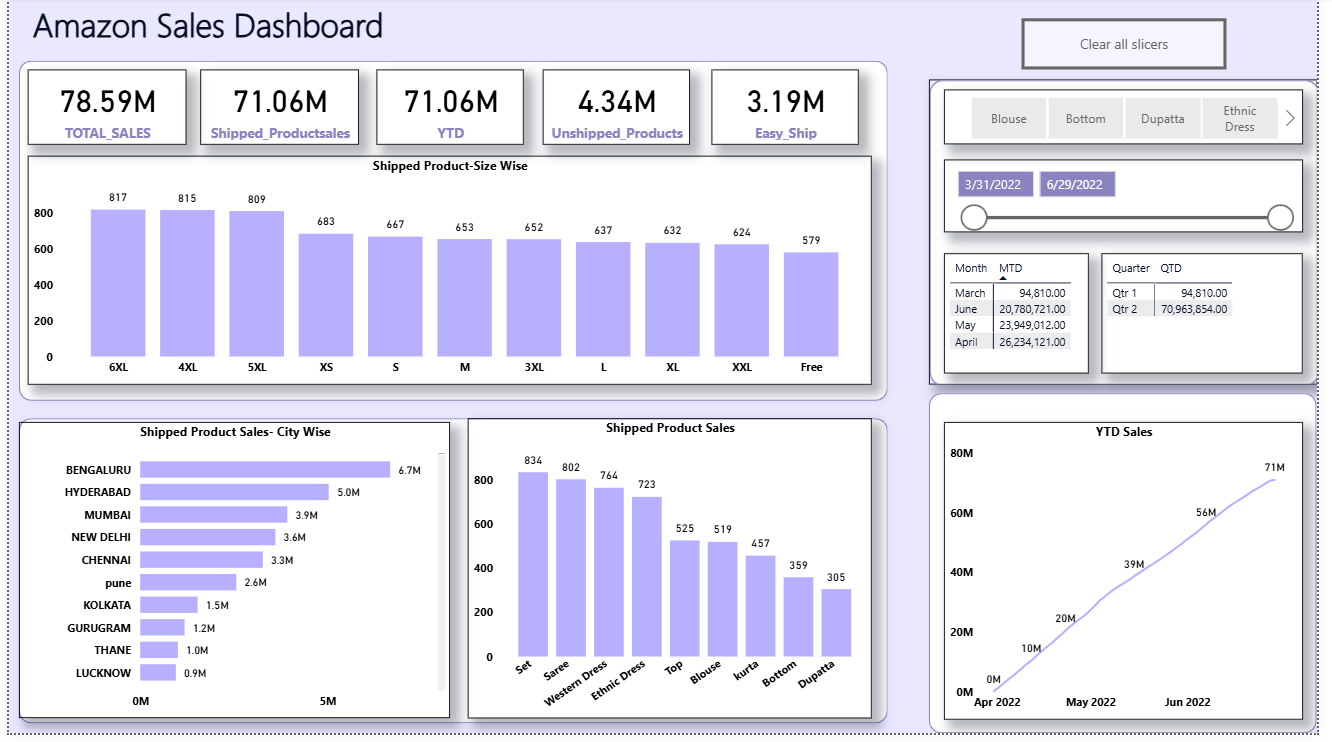

The page's visual inventory and layout, read from the dashboard file:
{"tool":"powerbi","page":{"name":"Page 1","canvas":[1280,720],"ordinal":0},"visuals":[{"type":"shape","box":[9.8,62.4,849.9,332.6],"z":0},{"type":"shape","box":[9.8,412.1,849.9,298.4],"z":1000},{"type":"shape","box":[900,80.7,380.3,298.4],"z":2000},{"type":"shape","box":[900,387.6,379.1,332.6],"z":3000},{"type":"textbox","box":[18.3,0,492.8,62.4],"z":4000},{"type":"clusteredColumnChart","title":"Shipped Product Sales","fields":{"Y":["Dax functions.Shipped_Productaveragesales"],"Category":["Amazon Sale Report.Category"]},"box":[448.8,412.1,395,293.5],"z":5000},{"type":"clusteredBarChart","title":"Shipped Product Sales- City Wise","fields":{"Category":["Amazon Sale Report.ship-city"],"Y":["Dax functions.Shipped_Productsales"]},"box":[9.8,415.8,421.9,289.8],"z":6000},{"type":"columnChart","title":"Shipped Product-Size Wise","fields":{"Y":["Dax functions.Shipped_Productaveragesales"],"Category":["Amazon Sale Report.Size"]},"box":[18.3,155.3,825.4,223.8],"z":7000},{"type":"card","fields":{"Values":["Dax functions.TOTAL_SALES"]},"box":[18.3,70.9,155.3,73.4],"z":8000},{"type":"card","fields":{"Values":["Dax functions.Shipped_Productsales"]},"box":[187.1,70.9,155.3,73.4],"z":9000},{"type":"card","fields":{"Values":["Dax functions.YTD"]},"box":[359.5,70.9,144.3,73.4],"z":10000},{"type":"card","fields":{"Values":["Dax functions.Cancelled_Products"]},"box":[522.1,70.9,144.3,73.4],"z":11000},{"type":"card","fields":{"Values":["Dax functions.Buyer_Delivery"]},"box":[687.2,70.9,144.3,73.4],"z":12000},{"type":"lineChart","title":"YTD Sales","fields":{"Category":["Calendar_Date.Date.Variation.Date Hierarchy.Year","Calendar_Date.Date.Variation.Date Hierarchy.Quarter","Calendar_Date.Date.Variation.Date Hierarchy.Month","Calendar_Date.Date.Variation.Date Hierarchy.Day"],"Y":["Dax functions.YTD"]},"box":[914.7,415.8,351,291],"z":13000},{"type":"pivotTable","fields":{"Values":["Dax functions.MTD"],"Rows":["Calendar_Date.Date.Variation.Date Hierarchy.Month"]},"box":[914.7,250.7,141.8,117.4],"z":15000},{"type":"pivotTable","fields":{"Values":["Dax functions.QTD"],"Rows":["Calendar_Date.Date.Variation.Date Hierarchy.Quarter"]},"box":[1068.8,250.7,196.9,117.4],"z":16000},{"type":"slicer","fields":{"Values":["Calendar_Date.Date"]},"box":[914.7,159,351,70.9],"z":17000},{"type":"slicer","fields":{"Values":["Amazon Sale Report.Category"]},"box":[914.7,90.5,351,53.8],"z":18000},{"type":"actionButton","box":[990.5,20.8,200.5,50.1],"z":19000}]}

Visuals, with their boxes in screenshot pixels (x1, y1, x2, y2), scaled from the page's 1280x720 canvas onto the 1332x742 screenshot:
shape: <bbox>10, 64, 895, 407</bbox>
shape: <bbox>10, 425, 895, 732</bbox>
shape: <bbox>937, 83, 1331, 391</bbox>
shape: <bbox>937, 399, 1331, 741</bbox>
textbox: <bbox>19, 0, 532, 64</bbox>
"Shipped Product Sales" clusteredColumnChart: <bbox>467, 425, 878, 727</bbox>
"Shipped Product Sales- City Wise" clusteredBarChart: <bbox>10, 429, 449, 727</bbox>
"Shipped Product-Size Wise" columnChart: <bbox>19, 160, 878, 391</bbox>
card - Dax functions.TOTAL_SALES: <bbox>19, 73, 181, 149</bbox>
card - Dax functions.Shipped_Productsales: <bbox>195, 73, 356, 149</bbox>
card - Dax functions.YTD: <bbox>374, 73, 524, 149</bbox>
card - Dax functions.Cancelled_Products: <bbox>543, 73, 693, 149</bbox>
card - Dax functions.Buyer_Delivery: <bbox>715, 73, 865, 149</bbox>
"YTD Sales" lineChart: <bbox>952, 429, 1317, 728</bbox>
pivotTable - Dax functions.MTD x Calendar_Date.Date.Variation.Date Hierarchy.Month: <bbox>952, 258, 1099, 379</bbox>
pivotTable - Dax functions.QTD x Calendar_Date.Date.Variation.Date Hierarchy.Quarter: <bbox>1112, 258, 1317, 379</bbox>
slicer - Calendar_Date.Date: <bbox>952, 164, 1317, 237</bbox>
slicer - Amazon Sale Report.Category: <bbox>952, 93, 1317, 149</bbox>
actionButton: <bbox>1031, 21, 1239, 73</bbox>
